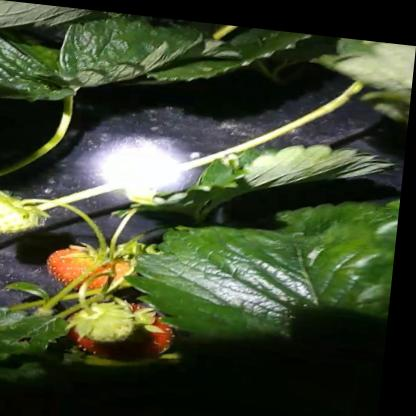ripe: (82, 297, 185, 360), (48, 241, 141, 289)
unripe: (0, 188, 49, 244)
